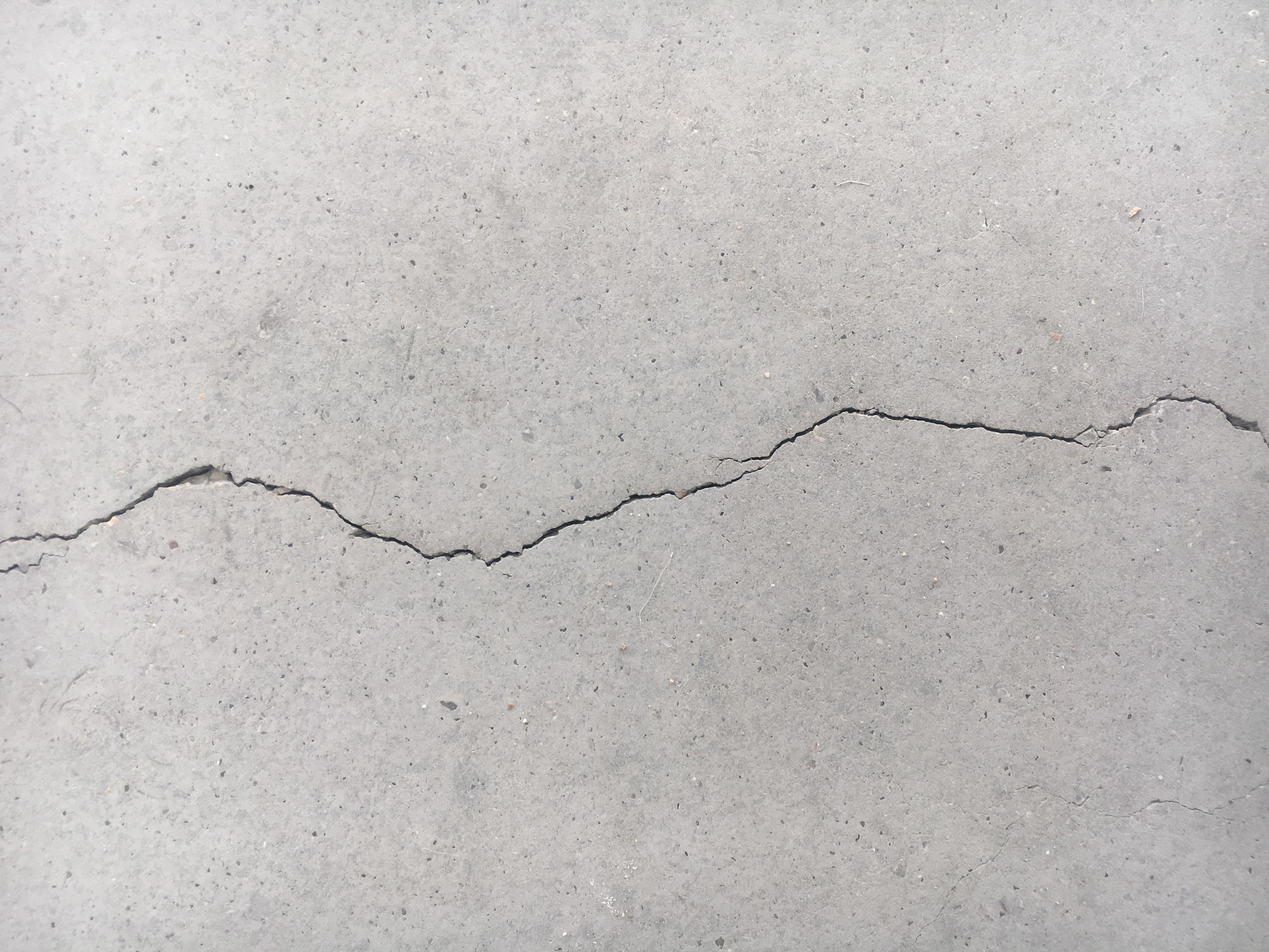Horizontal Settlement Crack: (3, 388, 1266, 575)
